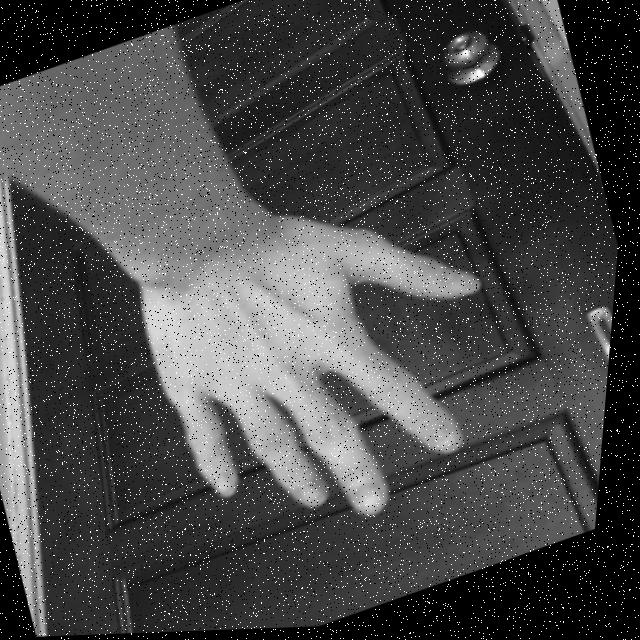hand: (112, 162, 557, 586)
